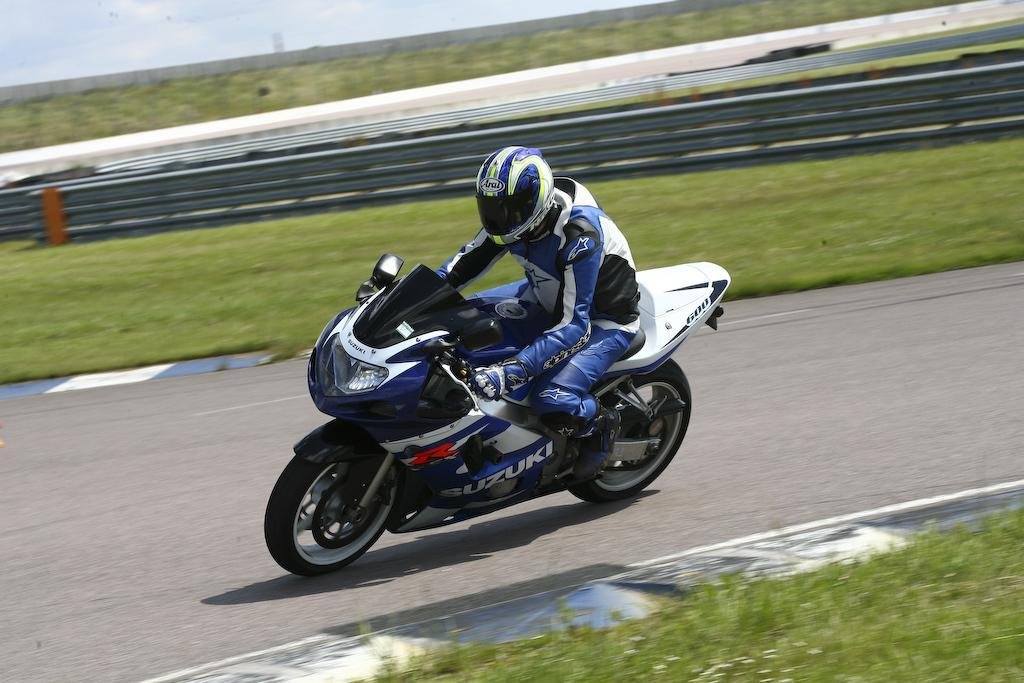helmet: (474, 145, 555, 248)
